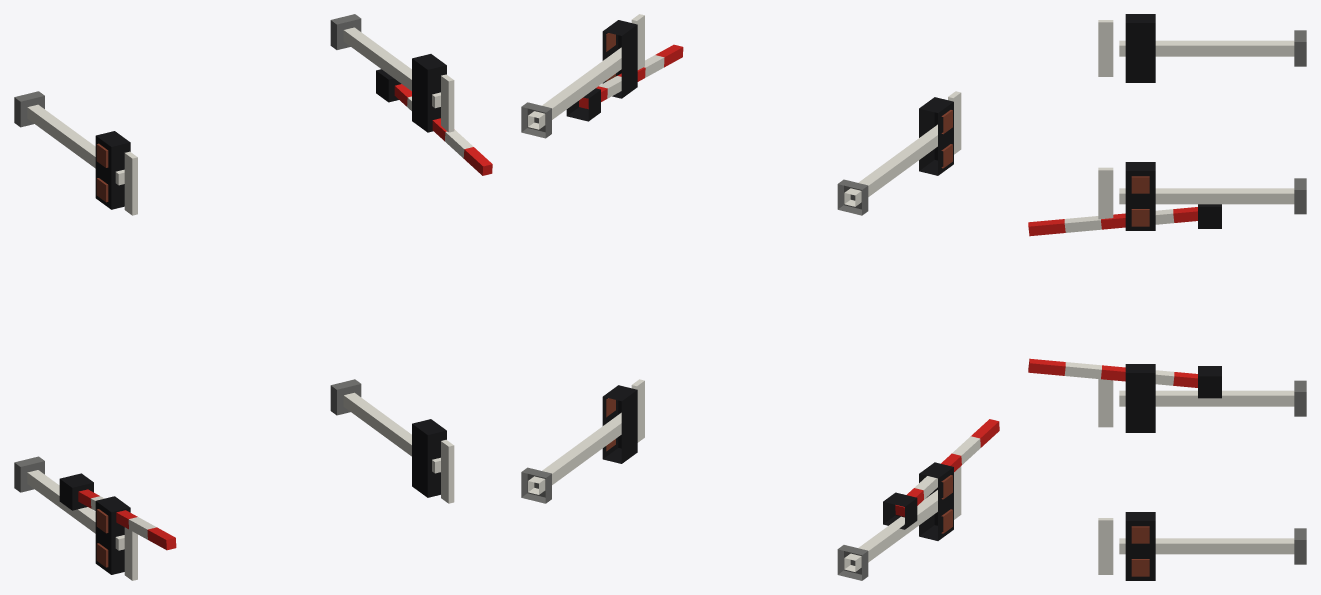
The model's file is open.glb.
3 views of the same model, side by side, from view 1: azimuth 30°, elevation 25°; view 2: azimuth 150°, elevation 25°; view 3: azimuth 270°, elevation 25° (orthographic). The views are drawn at different scales.
Parts seen in each view (by area): view 1: open_crossing; view 2: open_crossing; view 3: open_crossing.
Boxes of the visible parts, x1,y1,x2,y2 form: open_crossing: [14, 14, 492, 580]; open_crossing: [521, 14, 999, 580]; open_crossing: [1028, 14, 1306, 580].
Bounding box in the file's own units: 12.5 × 15 × 9.22.
